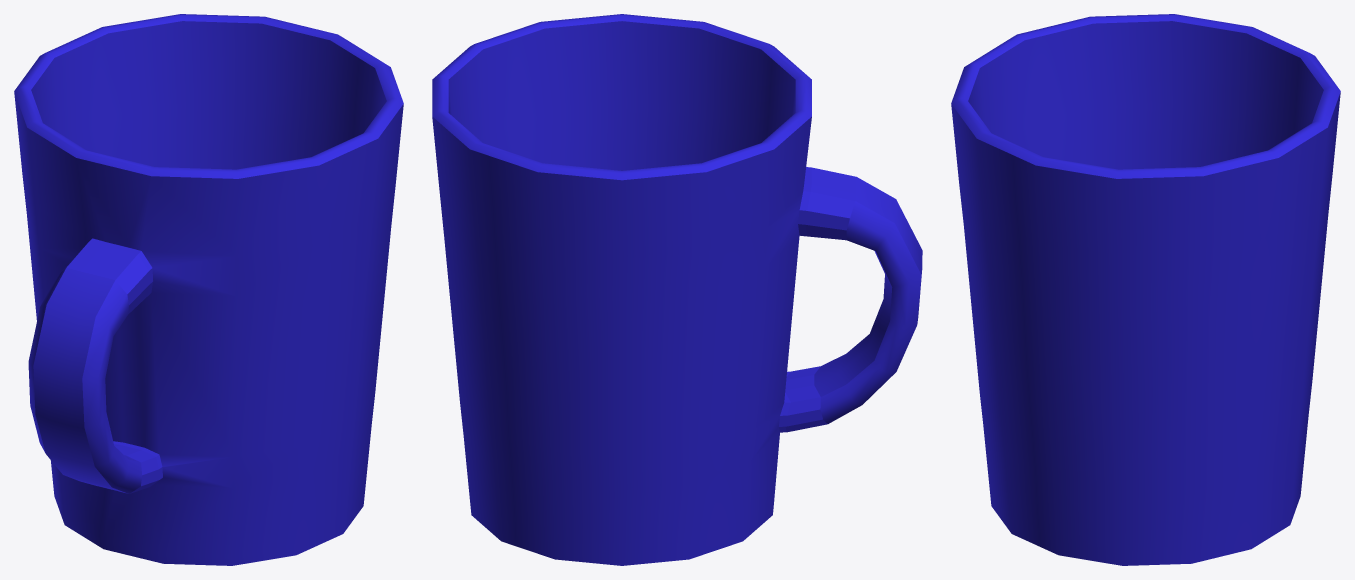
The model's file is Mug.fbx.
The picture shows the model from 3 angles, left to right: view 1: azimuth 30°, elevation 25°; view 2: azimuth 150°, elevation 25°; view 3: azimuth 270°, elevation 25°; orthographic projection.
Visible parts, largest first — view 1: Mug; view 2: Mug; view 3: Mug.
Part boxes in pixels (x1,y1,x2,y2): Mug: (14, 14, 403, 565); Mug: (432, 14, 922, 565); Mug: (951, 14, 1340, 565).
Bounding box in the file's own units: 12.48 × 10.39 × 12.02.
